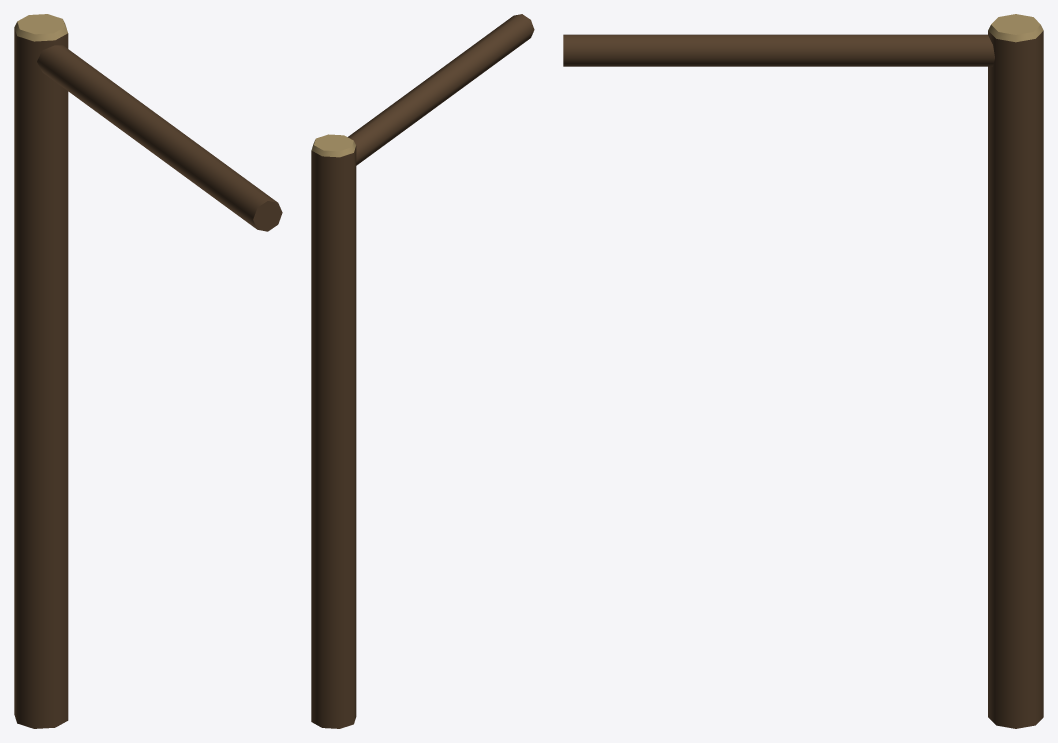
Rendered from Post.fbx.
3 renders of one model, left to right at view 1: azimuth 30°, elevation 25°; view 2: azimuth 150°, elevation 25°; view 3: azimuth 270°, elevation 25°, orthographic. The views are drawn at different scales.
Visible parts, largest first — view 1: Environment_Dock_Pole, Environment_Dock_Pole.001; view 2: Environment_Dock_Pole, Environment_Dock_Pole.001; view 3: Environment_Dock_Pole, Environment_Dock_Pole.001.
Boxes of the visible parts, left/top/right/bottom form: Environment_Dock_Pole: left=14, top=14, right=68, bottom=728; Environment_Dock_Pole.001: left=37, top=45, right=282, bottom=231; Environment_Dock_Pole: left=311, top=134, right=356, bottom=728; Environment_Dock_Pole.001: left=348, top=14, right=534, bottom=165; Environment_Dock_Pole: left=988, top=14, right=1043, bottom=728; Environment_Dock_Pole.001: left=563, top=34, right=994, bottom=66.
Bounding box in the file's own units: 21.95 × 301 × 189.
